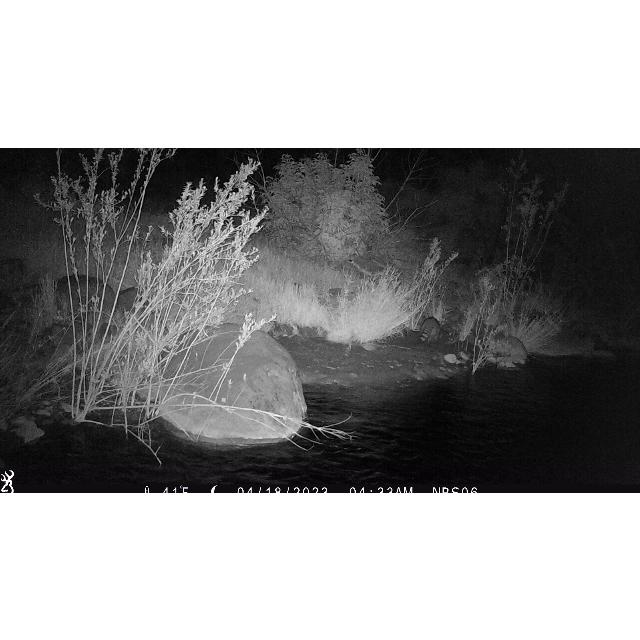animals: (416, 316, 442, 344)
